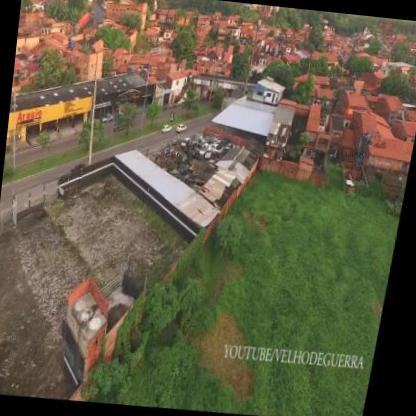lixo: (159, 142, 204, 181), (193, 132, 232, 160)
